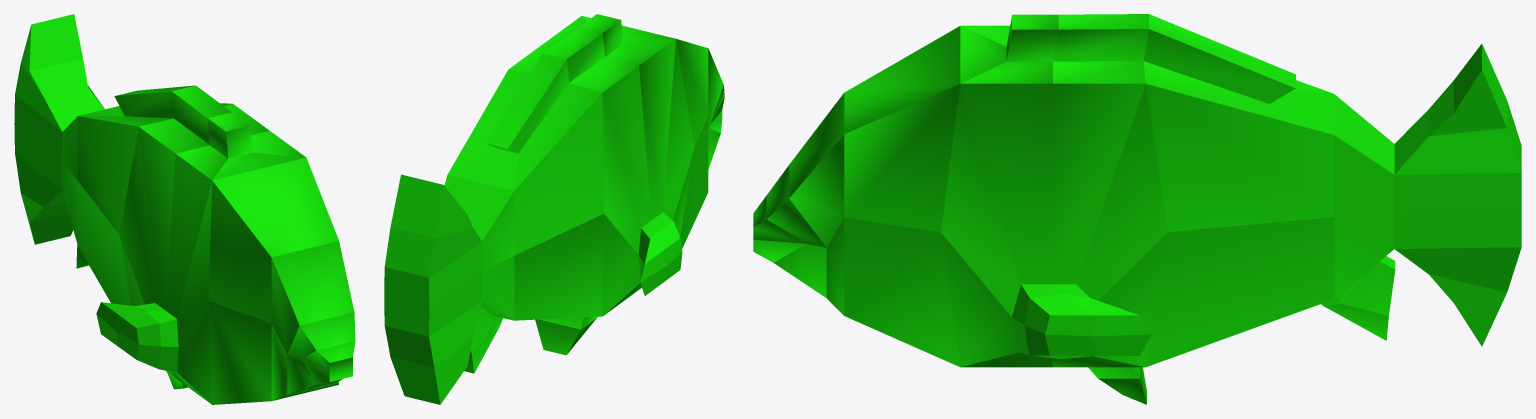
File: Carpa.fbx
3 renders of one model, left to right at view 1: azimuth 30°, elevation 25°; view 2: azimuth 150°, elevation 25°; view 3: azimuth 270°, elevation 25°, orthographic. The views are drawn at different scales.
Visible parts, largest first — view 1: Pexe; view 2: Pexe; view 3: Pexe.
Boxes of the visible parts, bbox=[...] form: Pexe: bbox=[14, 14, 355, 404]; Pexe: bbox=[384, 14, 724, 404]; Pexe: bbox=[753, 14, 1521, 404].
Bounding box in the file's own units: 2.32 × 3.65 × 6.77.
